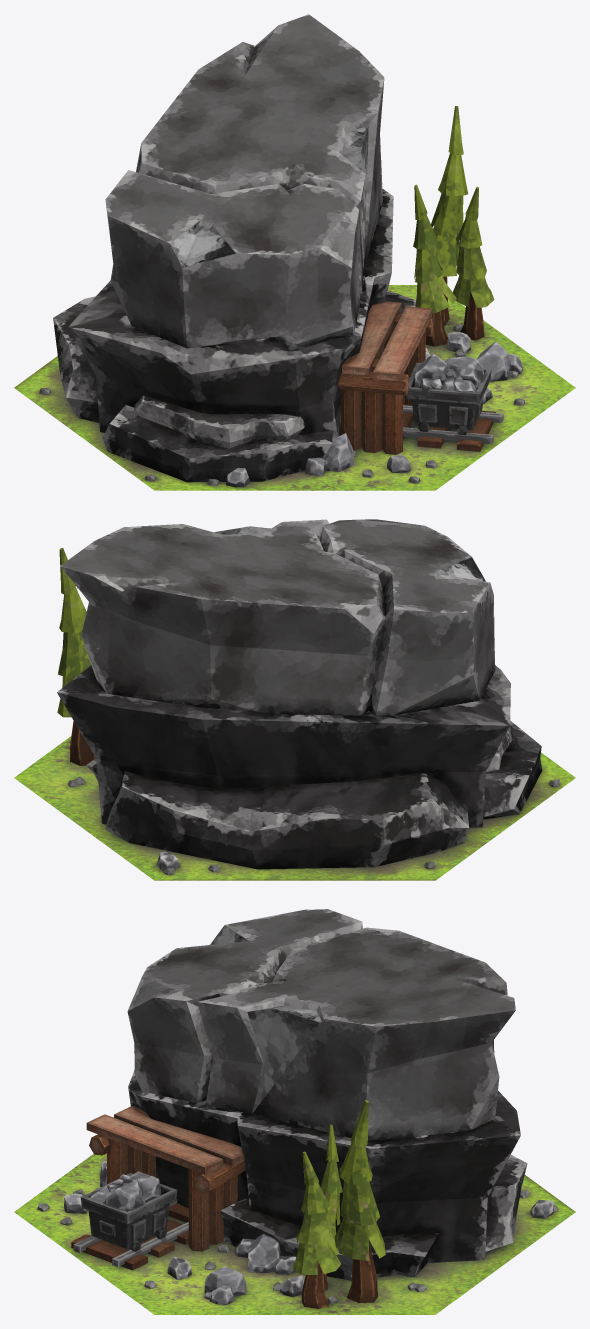
File: Hex_Flat_StoneMine.fbx
The picture shows the model from 3 angles, top to bottom: view 1: azimuth 30°, elevation 25°; view 2: azimuth 150°, elevation 25°; view 3: azimuth 270°, elevation 25°; orthographic projection.
Parts seen in each view (by area): view 1: Cube.001; view 2: Cube.001; view 3: Cube.001.
Part boxes in pixels (bbox=[...]): Cube.001: bbox=[14, 14, 575, 490]; Cube.001: bbox=[14, 519, 575, 880]; Cube.001: bbox=[14, 909, 575, 1314].
Size of the model in its own units: 0.8872 by 0.5316 by 1.
